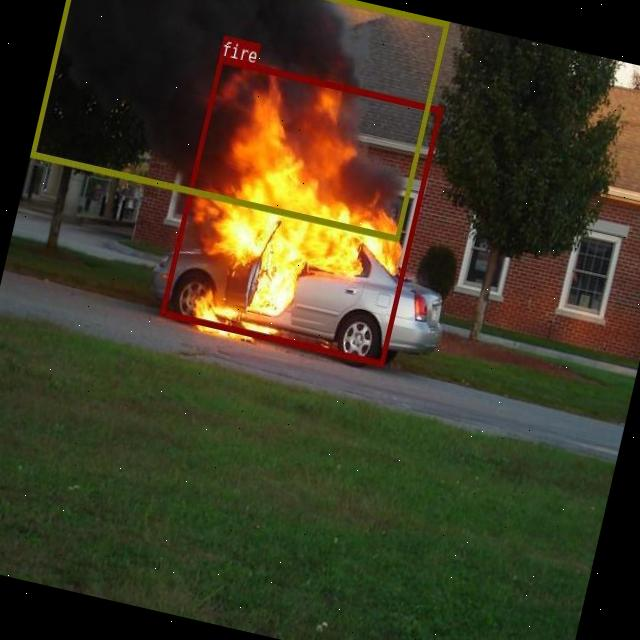fire: (159, 56, 442, 366)
smoke: (29, 0, 448, 240)
